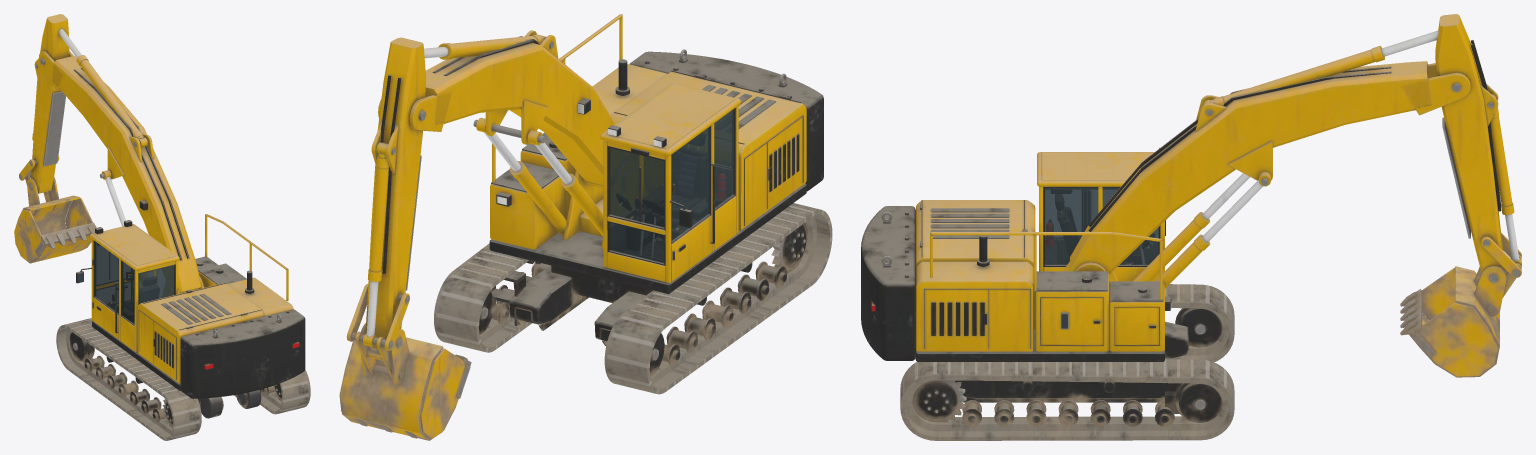
Rendered from excavator-20t.glb.
3 renders of one model, left to right at view 1: azimuth 30°, elevation 25°; view 2: azimuth 150°, elevation 25°; view 3: azimuth 270°, elevation 25°, orthographic. The views are drawn at different scales.
Visible parts, largest first — view 1: Boom, Counterweight, EngineCover, Track_L, Cab, Bucket, Stick, Glass, Upper, Track_R, StickCyl_Barrel, Undercarriage (+4 smaller); view 2: Boom, Track_L, Cab, Upper, EngineCover, Glass, Stick, Bucket, Track_R, Counterweight, Undercarriage, CabInterior (+15 smaller); view 3: Boom, EngineCover, Upper, Track_R, Stick, Bucket, Counterweight, Cab, Undercarriage, Glass, Track_L, BoomCyl_Barrel (+9 smaller).
Part boxes in pixels (x1,y1,x2,y2): Boom: (39,50,201,293); Counterweight: (180,309,305,398); EngineCover: (138,270,293,383); Track_L: (56,318,201,440); Cab: (76,220,179,351); Bucket: (14,177,96,263); Stick: (31,14,69,193); Glass: (95,241,173,324); Upper: (92,214,288,390); Track_R: (260,369,310,414); StickCyl_Barrel: (76,55,147,147); Undercarriage: (157,389,261,418); Boom: (378,30,614,188); Track_L: (604,203,832,394); Cab: (600,83,740,283); Upper: (489,14,806,326); EngineCover: (592,59,806,229); Glass: (609,109,733,263); Stick: (365,37,426,348); Bucket: (339,323,471,440); Track_R: (434,243,531,352); Counterweight: (630,49,823,191); Undercarriage: (509,265,652,345); CabInterior: (607,146,731,262); Boom: (1070,61,1470,274); EngineCover: (916,200,1035,351); Upper: (916,232,1181,413); Track_R: (900,359,1234,440); Stick: (1435,14,1505,273); Bucket: (1400,266,1506,377); Counterweight: (861,206,915,360); Cab: (1037,147,1165,281); Undercarriage: (955,321,1188,402); Glass: (1045,187,1158,264); Track_L: (915,284,1234,362); BoomCyl_Barrel: (1133,212,1210,288).
Bounding box in the file's own units: 3.09 × 5.67 × 8.92.
Materials: 2 (1 with a texture image).
